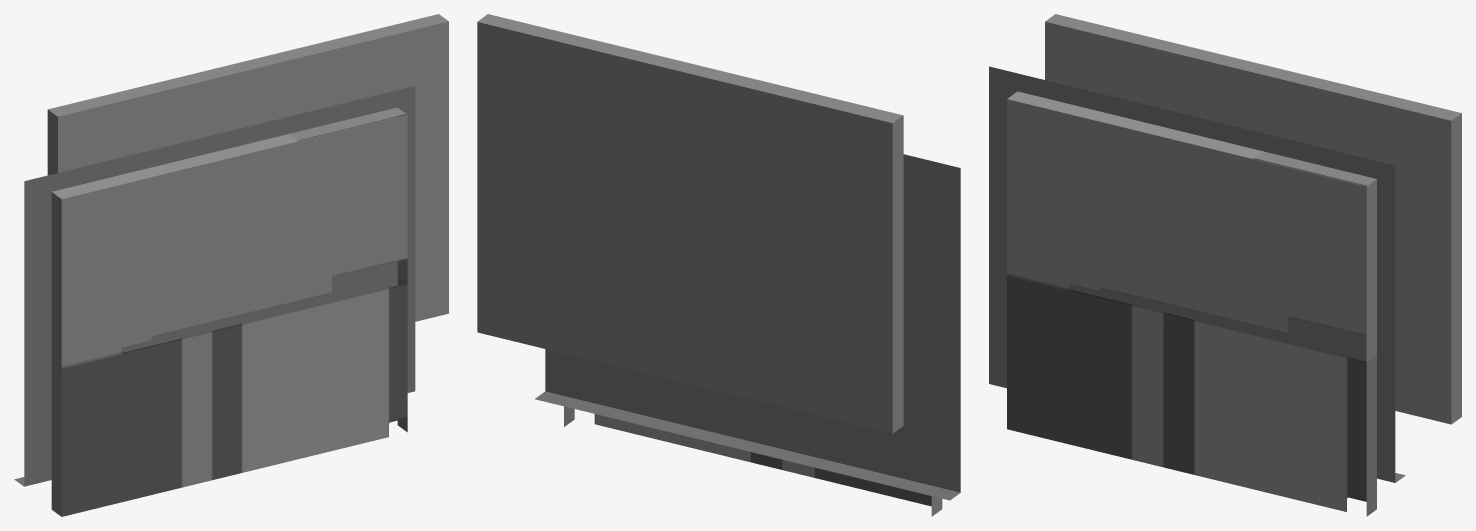
3 views of the same model, side by side, from view 1: azimuth 30°, elevation 25°; view 2: azimuth 150°, elevation 25°; view 3: azimuth 330°, elevation 25° (orthographic). The views are drawn at different scales.
Size of the model in its own units: 0.4469 by 0.3745 by 0.054.
